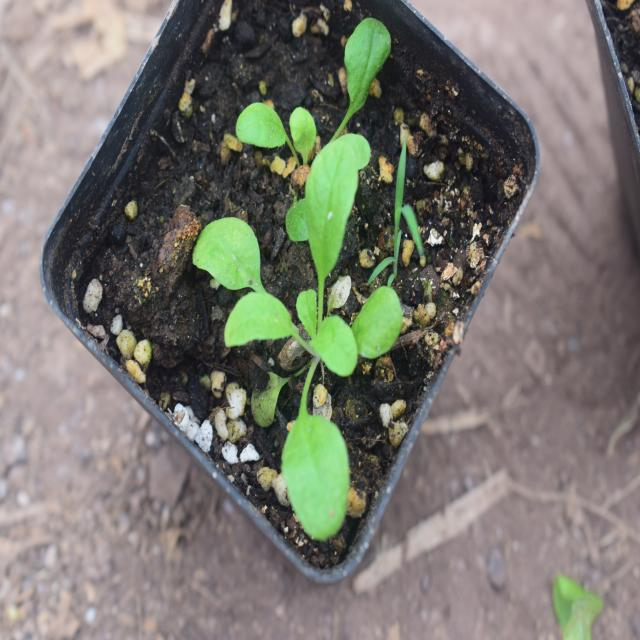Shepherd_Purse: (194, 132, 394, 537)
